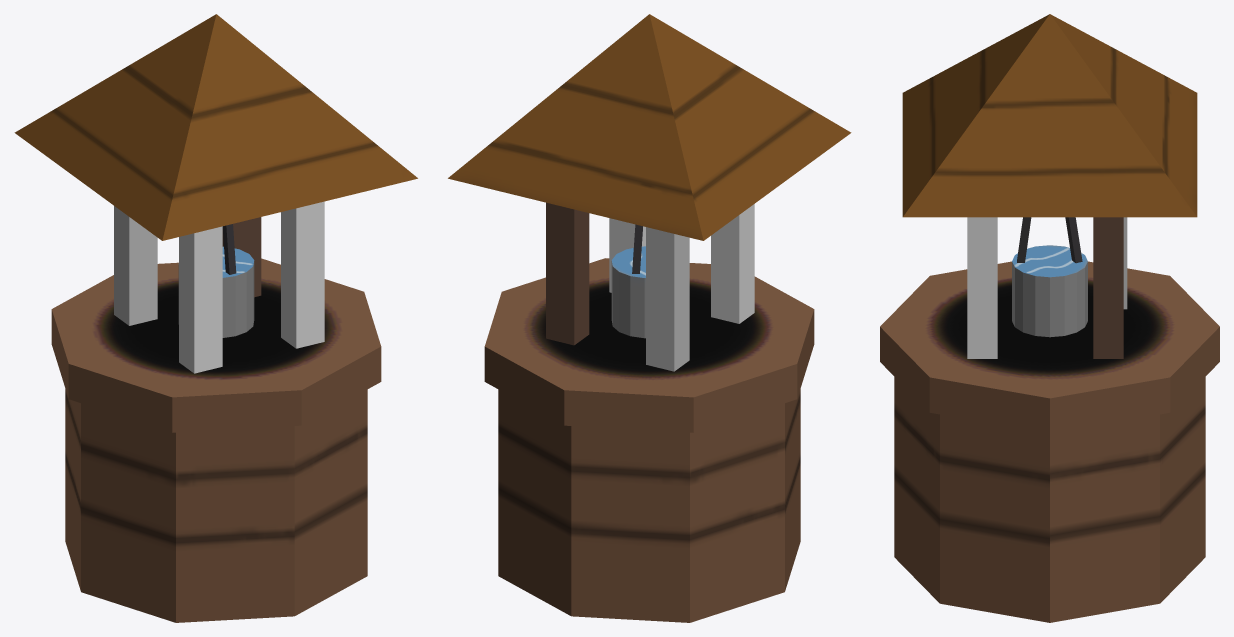
Rendered from WellModel.fbx.
3 views of the same model, side by side, from view 1: azimuth 30°, elevation 25°; view 2: azimuth 150°, elevation 25°; view 3: azimuth 270°, elevation 25° (orthographic).
Visible parts, largest first — view 1: Cylinder, Cone, Cylinder.001, Cube.001, Cube.002, Cube.004, Cylinder.003, Cube.003, Cube; view 2: Cylinder, Cone, Cylinder.001, Cube.004, Cube.003, Cube.001, Cylinder.003, Cube.002; view 3: Cylinder, Cone, Cylinder.001, Cylinder.003, Cube.002, Cube.003, Cube.005.
Part boxes in pixels (left/top/right/bottom): Cylinder: left=65, top=389, right=367, bottom=622; Cone: left=14, top=14, right=417, bottom=240; Cylinder.001: left=51, top=258, right=381, bottom=432; Cube.001: left=179, top=226, right=222, bottom=373; Cube.002: left=281, top=201, right=324, bottom=348; Cube.004: left=114, top=206, right=157, bottom=325; Cylinder.003: left=178, top=246, right=254, bottom=337; Cube.003: left=222, top=217, right=261, bottom=297; Cube: left=222, top=224, right=236, bottom=274; Cylinder: left=498, top=389, right=800, bottom=622; Cone: left=448, top=14, right=851, bottom=240; Cylinder.001: left=484, top=258, right=814, bottom=432; Cube.004: left=646, top=227, right=689, bottom=371; Cube.003: left=546, top=202, right=589, bottom=345; Cube.001: left=711, top=204, right=754, bottom=323; Cylinder.003: left=611, top=246, right=645, bottom=338; Cube.002: left=609, top=218, right=645, bottom=292; Cylinder: left=894, top=377, right=1205, bottom=622; Cone: left=902, top=14, right=1197, bottom=217; Cylinder.001: left=880, top=261, right=1219, bottom=433; Cylinder.003: left=1012, top=245, right=1087, bottom=337; Cube.002: left=967, top=217, right=997, bottom=358; Cube.003: left=1093, top=217, right=1123, bottom=358; Cube.005: left=1065, top=217, right=1082, bottom=263.
Size of the model in its own units: 218 by 385 by 218.
